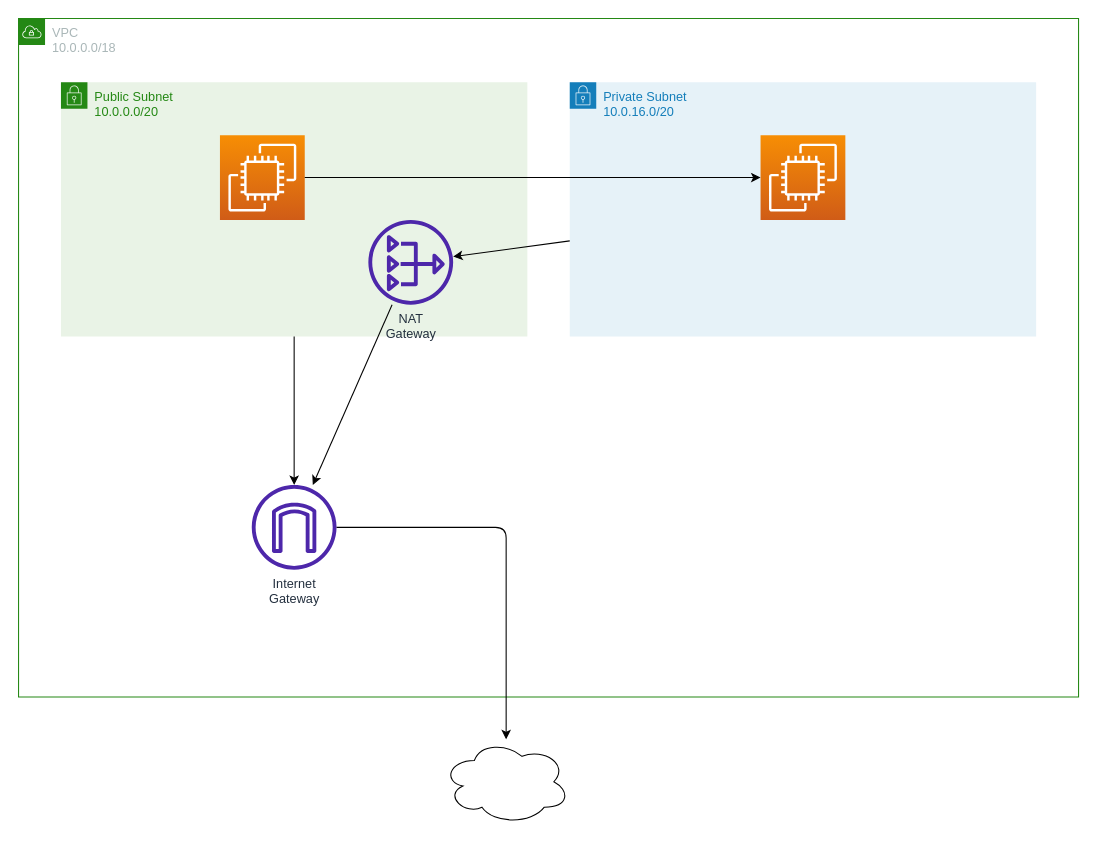
This 1097x843 diagram has some shape labels left out. Each missing label, with the centre of its shape:
Internet: pixel 505 781
Private EC2: pixel 802 177
Public EC2 (Nginx): pixel 262 177
